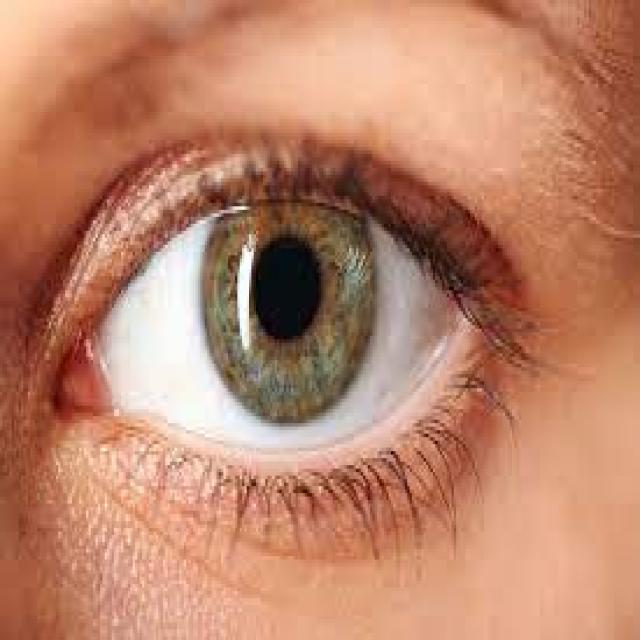Eyes-iris: (193, 184, 380, 428)
